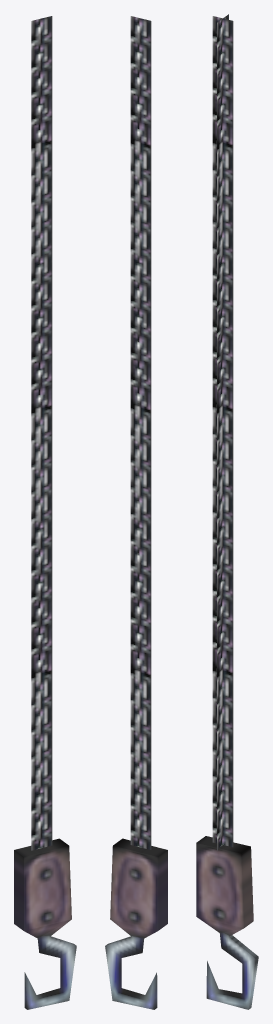
3 renders of one model, left to right at view 1: azimuth 30°, elevation 25°; view 2: azimuth 150°, elevation 25°; view 3: azimuth 330°, elevation 25°, orthographic.
Parts seen in each view (by area): view 1: Box08; view 2: Box08; view 3: Box08.
Part boxes in pixels (bbox=[...]): Box08: bbox=[14, 16, 76, 1009]; Box08: bbox=[105, 16, 167, 1009]; Box08: bbox=[196, 14, 258, 1009].
Size of the model in its own units: 34.62 by 579 by 12.79.
1 material, 1 textured.
